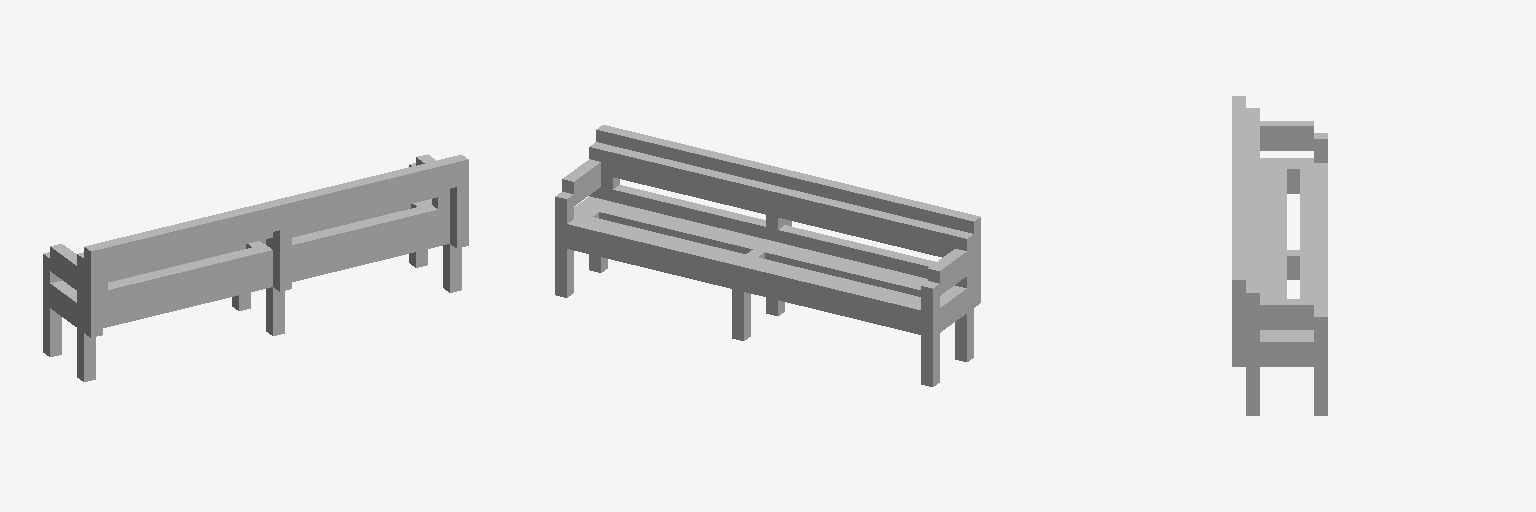
File: Bench_2.obj
3 views of the same model, side by side, from view 1: azimuth 30°, elevation 25°; view 2: azimuth 150°, elevation 25°; view 3: azimuth 270°, elevation 25° (orthographic).
Visible parts, largest first — view 1: object 1; view 2: object 1; view 3: object 1.
Boxes of the visible parts, x1,y1,x2,y2 form: object 1: [43, 154, 468, 381]; object 1: [555, 125, 980, 386]; object 1: [1232, 96, 1327, 415].
Bounding box in the file's own units: 3.2 × 1.1 × 0.7.